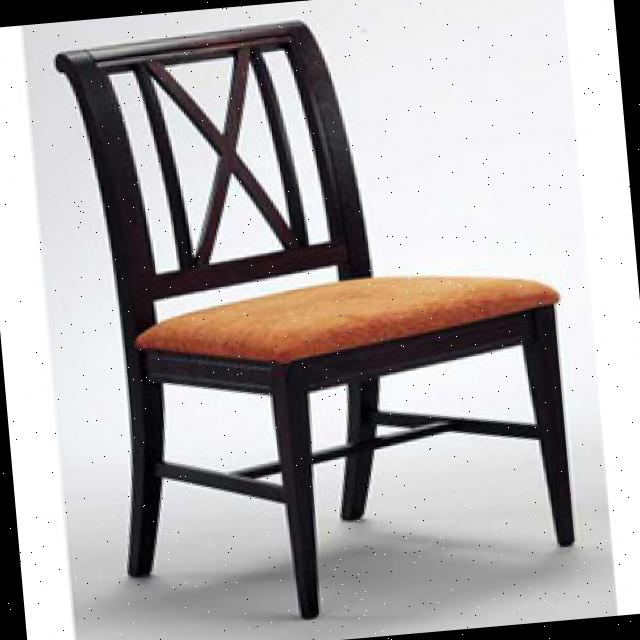Chair: (31, 0, 614, 640)
